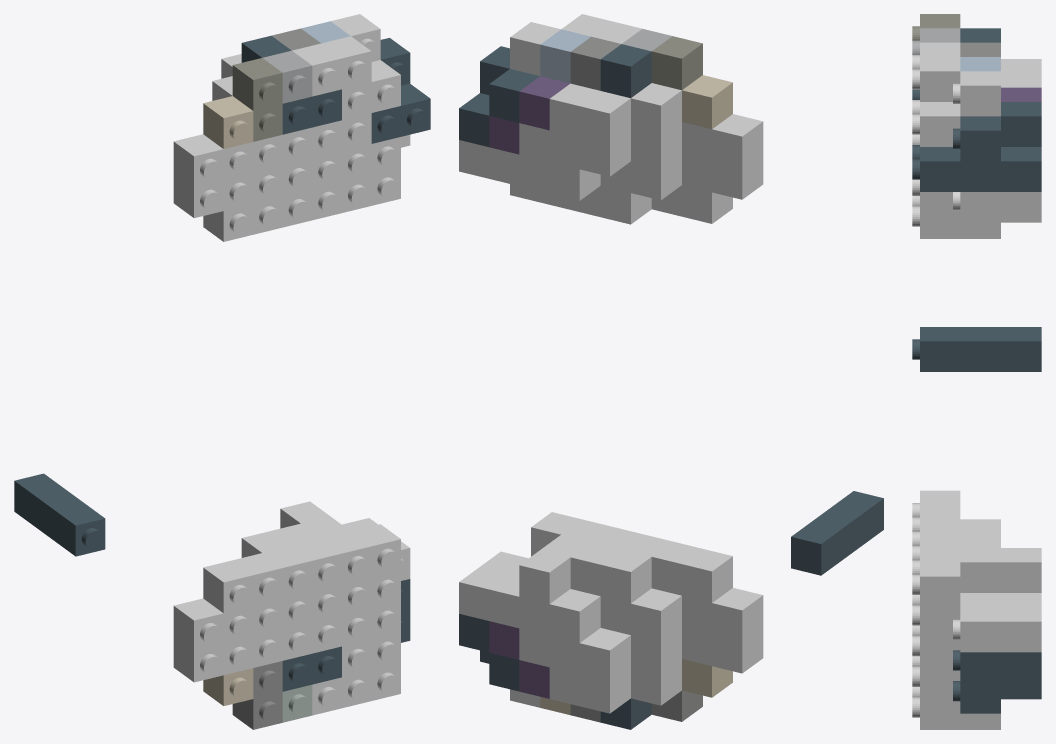
Rendered from full.glb.
3 views of the same model, side by side, from view 1: azimuth 30°, elevation 25°; view 2: azimuth 150°, elevation 25°; view 3: azimuth 270°, elevation 25° (orthographic). The views are drawn at different scales.
Parts seen in each view (by area): view 1: world; view 2: world; view 3: world.
Part boxes in pixels (bbox=[...]): world: bbox=[14, 14, 430, 729]; world: bbox=[459, 14, 883, 729]; world: bbox=[912, 14, 1041, 729].
Bounding box in the file's own units: 96 × 168 × 30.6.
